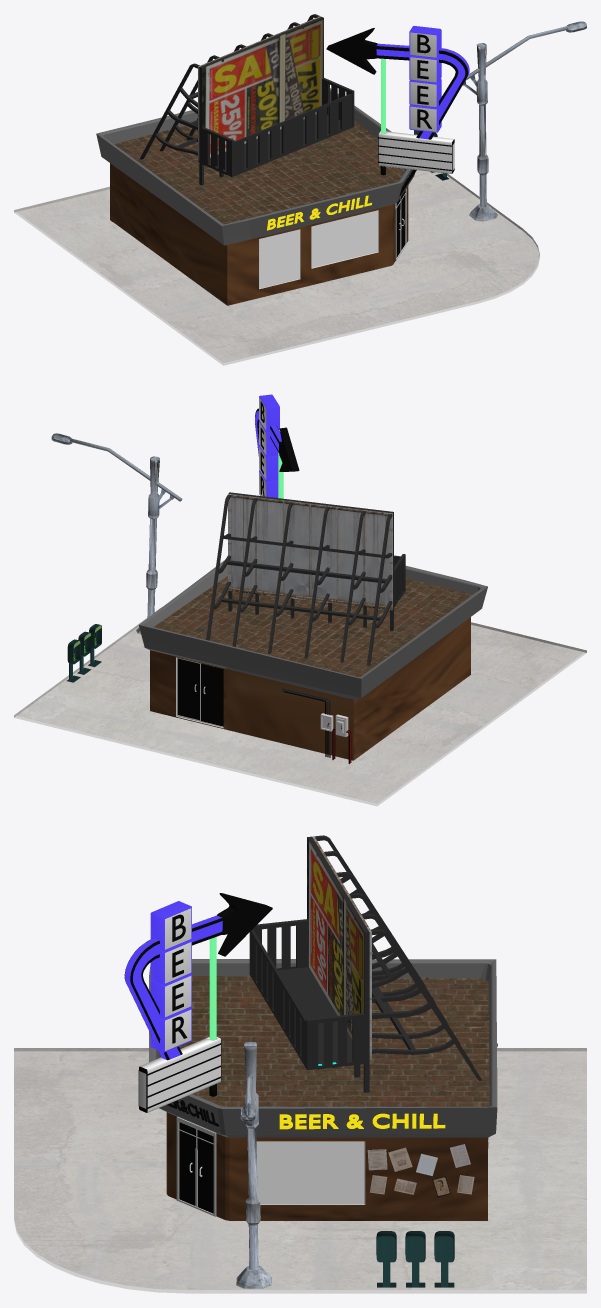
Rendered from building.glb.
3 views of the same model, one above another, from view 1: azimuth 30°, elevation 25°; view 2: azimuth 150°, elevation 25°; view 3: azimuth 270°, elevation 25° (orthographic). The views are drawn at different scales.
Visible parts, largest first — view 1: Cube, Plane, Plane.008, Cube.009, Cube.001, Cube.015, Cube.014, Cube.013, Text.001, Cube.011, Cube.012, Cube.010; view 2: Cube, Plane, Plane.008, Cube.001, Cube.003, Cube.004, Cube.015, Cube.013; view 3: Plane, Cube, Plane.008, Cube.009, Cube.001, Cube.015, Cube.014, Text, Cube.013, Cube.012, Cube.011, Cube.010 (+5 smaller).
Part boxes in pixels (x1,y1,x2,y2): Cube: [96, 88, 414, 305]; Plane: [14, 170, 539, 365]; Plane.008: [140, 14, 354, 185]; Cube.009: [378, 131, 454, 173]; Cube.001: [463, 21, 586, 207]; Cube.015: [326, 28, 409, 74]; Cube.014: [416, 48, 469, 139]; Cube.013: [409, 26, 441, 58]; Text.001: [267, 195, 371, 230]; Cube.011: [409, 79, 441, 107]; Cube.012: [409, 55, 441, 83]; Cube.010: [409, 105, 441, 132]; Cube: [139, 560, 487, 760]; Plane: [14, 607, 586, 806]; Plane.008: [206, 492, 405, 665]; Cube.001: [51, 433, 182, 617]; Cube.003: [200, 663, 223, 727]; Cube.004: [177, 657, 200, 721]; Cube.015: [270, 425, 299, 471]; Cube.013: [259, 394, 279, 431]; Plane: [14, 1048, 586, 1293]; Cube: [149, 959, 497, 1220]; Plane.008: [249, 835, 482, 1092]; Cube.009: [138, 1037, 221, 1112]; Cube.001: [240, 1042, 260, 1270]; Cube.015: [191, 893, 272, 956]; Cube.014: [124, 938, 182, 1060]; Text: [279, 1113, 445, 1129]; Cube.013: [150, 901, 191, 950]; Cube.012: [150, 940, 191, 984]; Cube.011: [150, 973, 191, 1018]; Cube.010: [150, 1007, 191, 1052].
Bounding box in the file's own units: 9.78 × 4.8 × 7.91.
Materials: 65 (17 with a texture image).
